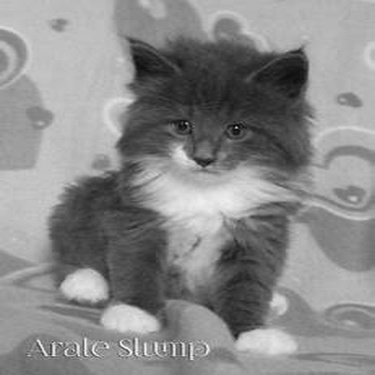cat: (35, 35, 313, 356)
